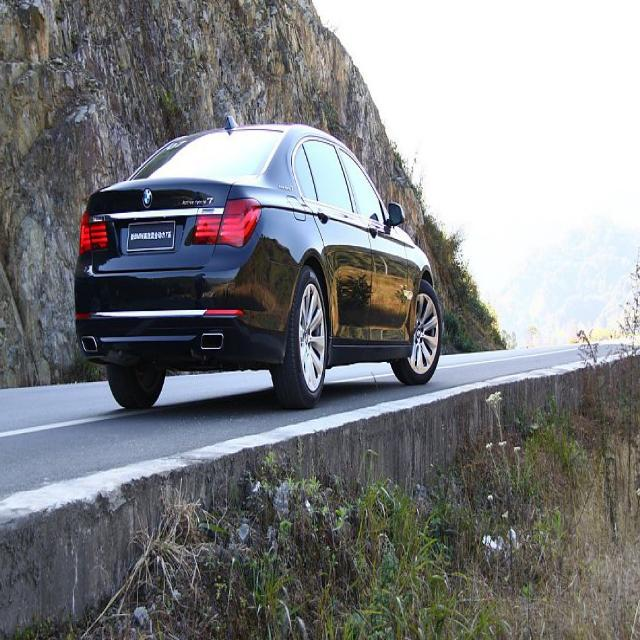back_glass: (125, 125, 285, 181)
back_left_side_light: (78, 202, 111, 260)
back_right_side_light: (191, 194, 262, 248)
door: (287, 130, 370, 349)
front_right_side_door: (337, 141, 409, 348)
front_right_side_mirror: (386, 199, 405, 228)
rear_bumper: (74, 230, 301, 366)
wheel: (274, 269, 326, 408), (392, 279, 442, 383)
